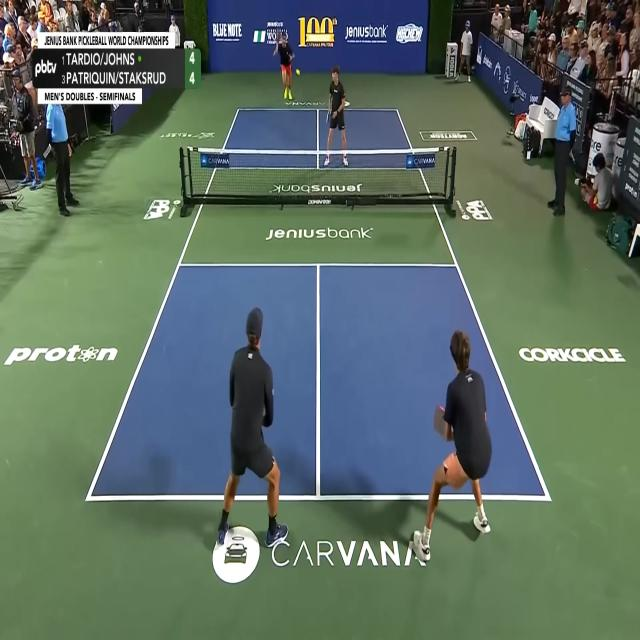ball: (296, 68, 300, 76)
